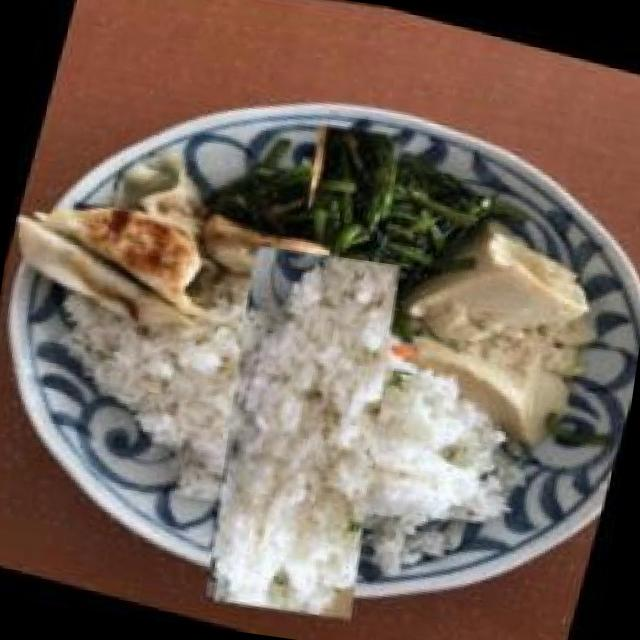fried_dumplings: (6, 130, 358, 374)
rice: (127, 253, 480, 607)
water_spinach: (261, 123, 438, 301)
